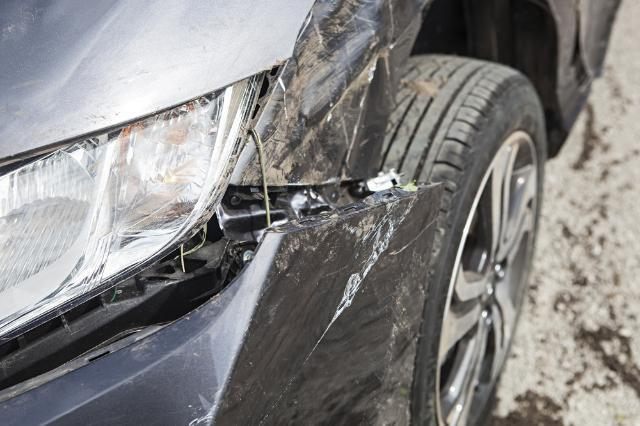dislocated part: (0, 175, 445, 426)
scratch: (300, 196, 421, 368)
